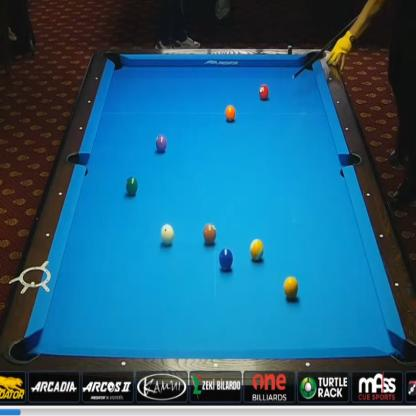Ball: (250, 238, 264, 262), (284, 276, 298, 300), (219, 248, 233, 271), (161, 224, 174, 245), (203, 224, 216, 245), (126, 176, 138, 196), (224, 105, 236, 122), (156, 134, 167, 152), (259, 84, 269, 100)
